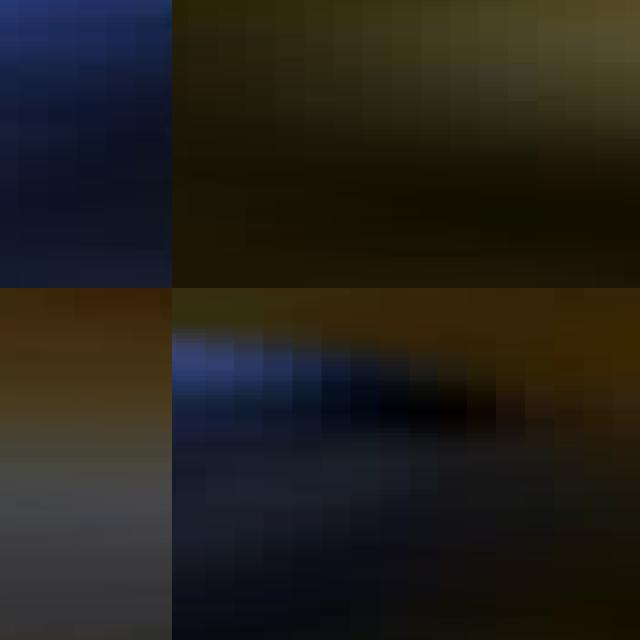fish: (19, 0, 172, 288)
